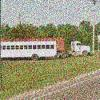buses: (2, 38, 61, 64)
